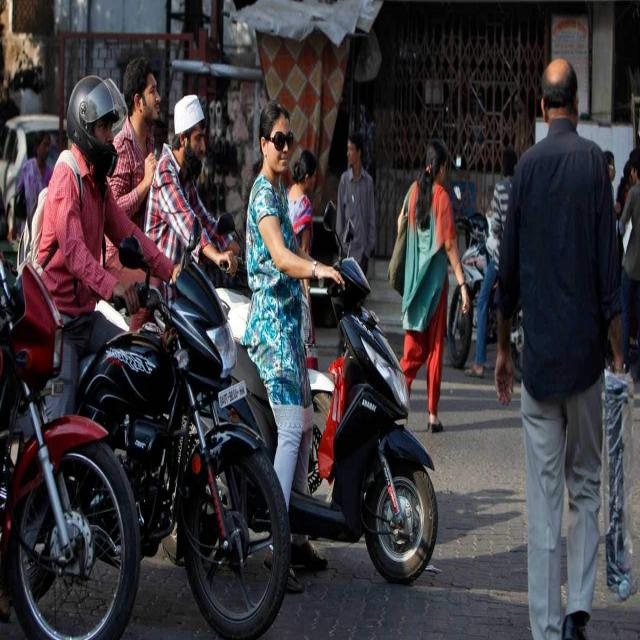motorcycle: (38, 76, 290, 637), (235, 102, 438, 582)
